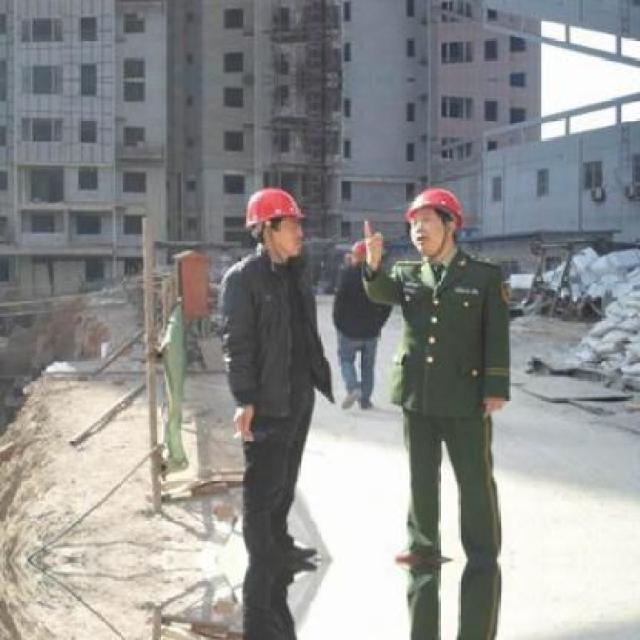helmet: (393, 178, 475, 262), (238, 177, 310, 266)
